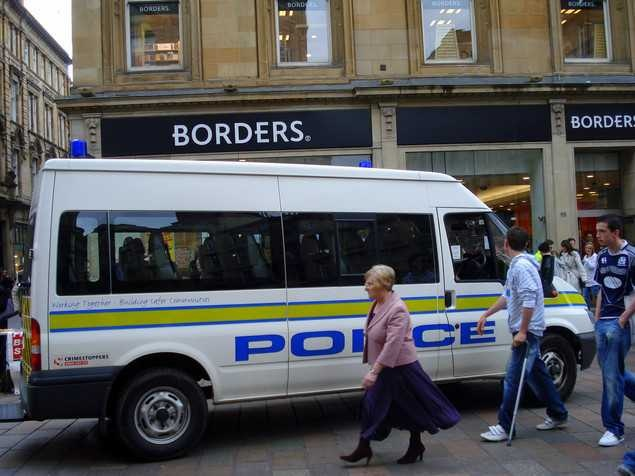Police Van: (7, 134, 597, 421)
